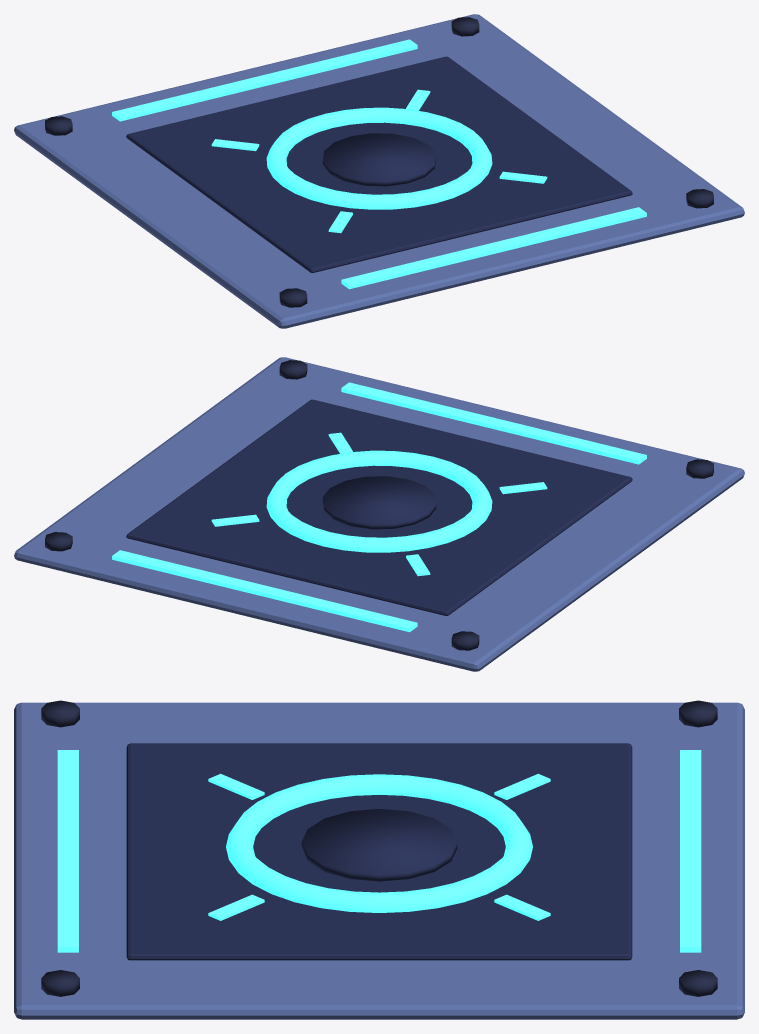
The model's file is terrain_metal.glb.
3 views of the same model, one above another, from view 1: azimuth 30°, elevation 25°; view 2: azimuth 150°, elevation 25°; view 3: azimuth 270°, elevation 25° (orthographic). The views are drawn at different scales.
Visible parts, largest first — view 1: terrain_metal; view 2: terrain_metal; view 3: terrain_metal.
Boxes of the visible parts, bbox=[...] form: terrain_metal: bbox=[14, 14, 744, 328]; terrain_metal: bbox=[14, 357, 744, 671]; terrain_metal: bbox=[14, 700, 744, 1019].
Bounding box in the file's own units: 1.88 × 0.0903 × 1.88.
